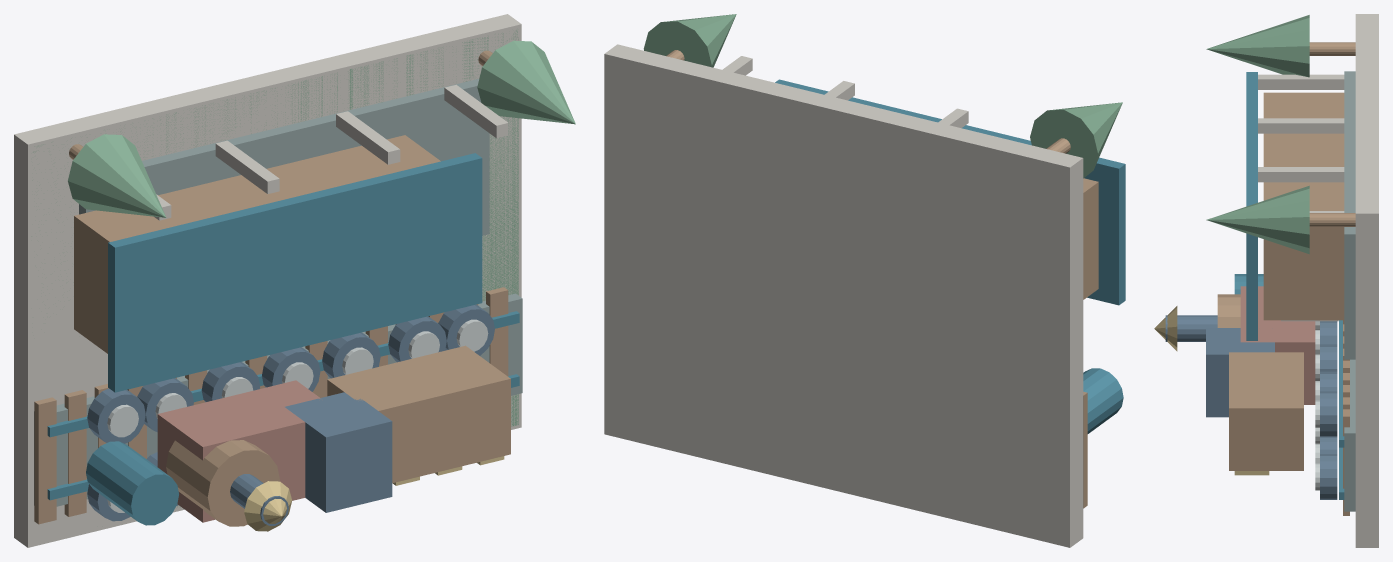
The model's file is fenqihu_station.glb.
3 views of the same model, side by side, from view 1: azimuth 30°, elevation 25°; view 2: azimuth 150°, elevation 25°; view 3: azimuth 270°, elevation 25° (orthographic). The views are drawn at different scales.
Visible parts, largest first — view 1: g4, g0, g38, g3, g2, g32, g34, g1, g71, g73, g33, g37 (+21 smaller); view 2: g0, g4, g71, g73, g37, g3; view 3: g3, g0, g38, g73, g71, g2, g32, g4, g34, g13, g10, g11 (+15 smaller).
Part boxes in pixels (box(x1,y1,x2,y2)): g4: box(108, 153, 482, 392); g0: box(14, 14, 521, 547); g38: box(327, 345, 510, 483); g3: box(74, 135, 440, 353); g2: box(79, 79, 489, 235); g32: box(157, 380, 320, 522); g34: box(285, 392, 392, 512); g1: box(31, 30, 518, 507); g71: box(68, 134, 166, 217); g73: box(477, 40, 575, 124); g33: box(166, 440, 279, 526); g37: box(86, 441, 178, 525); g0: box(604, 44, 1083, 547); g4: box(775, 79, 1125, 305); g71: box(1030, 102, 1122, 178); g73: box(643, 14, 736, 67); g37: box(1083, 368, 1123, 433); g3: box(1083, 178, 1098, 299); g3: box(1263, 92, 1344, 320); g0: box(1355, 14, 1378, 547); g38: box(1229, 352, 1303, 470); g73: box(1206, 185, 1309, 254); g71: box(1206, 15, 1309, 77); g2: box(1344, 71, 1355, 359); g32: box(1240, 286, 1315, 404); g4: box(1246, 72, 1257, 340); g34: box(1206, 328, 1274, 417); g13: box(1344, 359, 1355, 511); g10: box(1258, 118, 1344, 133); g11: box(1258, 167, 1344, 182).
Bounding box in the file's own units: 82 × 67 × 39.
